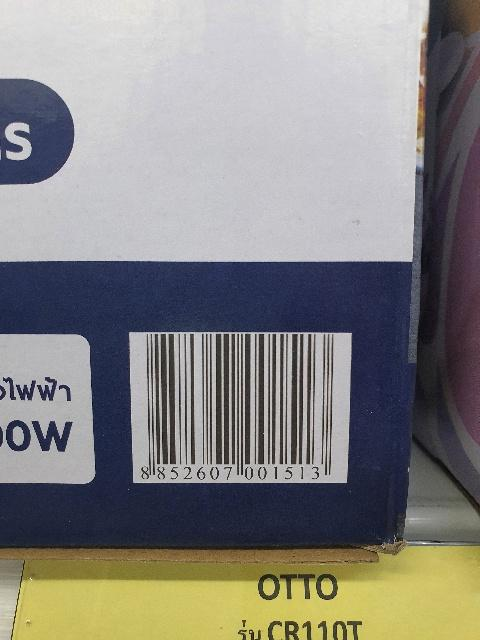Barcode: (129, 332, 348, 483)
